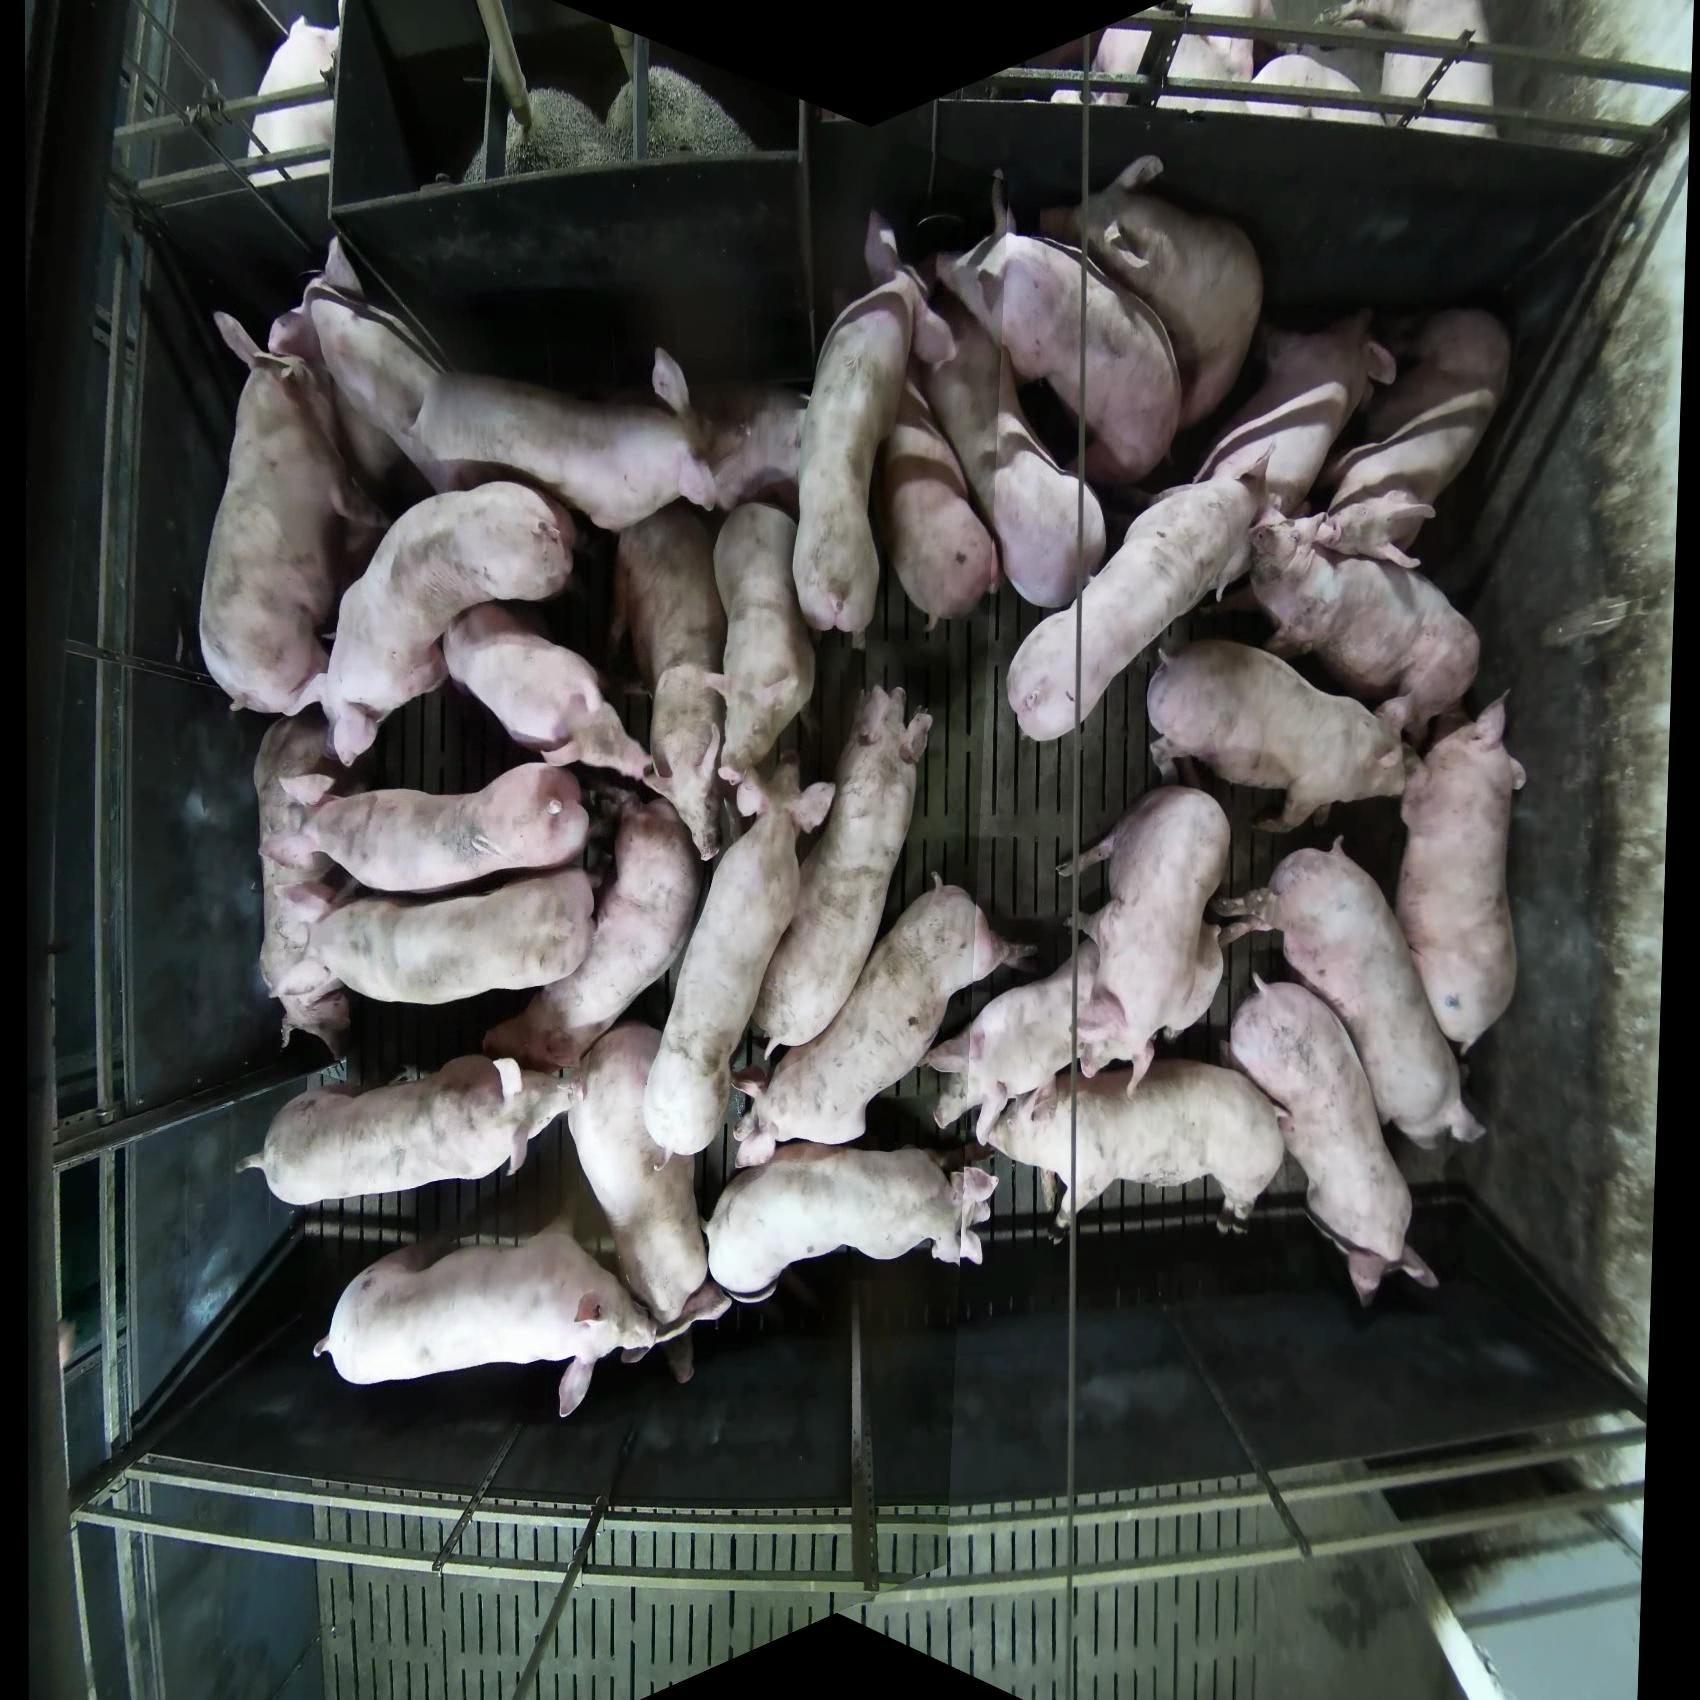pig: (311, 1221, 732, 1418), (749, 866, 1043, 1141), (637, 736, 834, 1143), (196, 310, 388, 718), (1006, 455, 1272, 746), (1227, 968, 1440, 1308), (1311, 269, 1565, 548), (293, 481, 559, 746), (1032, 769, 1241, 1085), (1235, 508, 1527, 732), (761, 685, 959, 1010), (500, 746, 721, 1034), (794, 209, 937, 651), (409, 346, 741, 536), (976, 1057, 1287, 1235), (1070, 163, 1297, 403), (237, 1052, 582, 1208), (1144, 638, 1410, 834), (1395, 690, 1529, 1055), (704, 1144, 999, 1301), (959, 277, 1085, 609), (1200, 304, 1389, 525), (448, 553, 610, 785), (263, 876, 588, 985), (291, 764, 610, 875), (876, 268, 967, 635), (648, 459, 727, 822), (732, 469, 803, 747), (244, 14, 342, 188)
